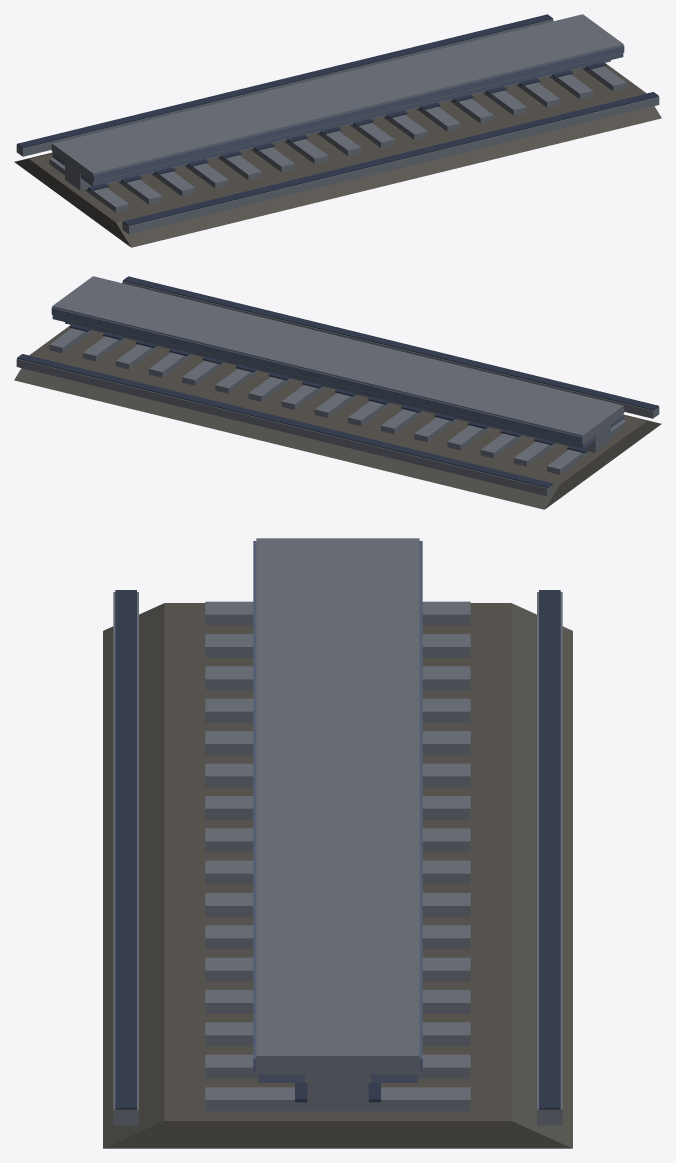
The model's file is rail_track_straight.glb.
3 views of the same model, one above another, from view 1: azimuth 30°, elevation 25°; view 2: azimuth 150°, elevation 25°; view 3: azimuth 270°, elevation 25° (orthographic). The views are drawn at different scales.
Parts seen in each view (by area): view 1: sleeper, ballast, fastening, guide_strip; view 2: sleeper, ballast, fastening, guide_strip; view 3: sleeper, ballast, fastening, guide_strip.
Boxes of the visible parts, bbox=[...] form: sleeper: bbox=[16, 14, 659, 234]; ballast: bbox=[14, 63, 661, 247]; fastening: bbox=[17, 14, 658, 225]; guide_strip: bbox=[51, 45, 624, 186]; sleeper: bbox=[16, 276, 659, 496]; ballast: bbox=[14, 325, 661, 509]; fastening: bbox=[17, 276, 658, 487]; guide_strip: bbox=[51, 307, 624, 448]; sleeper: bbox=[113, 538, 562, 1125]; ballast: bbox=[103, 603, 572, 1148]; fastening: bbox=[115, 590, 560, 1109]; guide_strip: bbox=[253, 541, 422, 1082].
Bounding box in the file's own units: 12 × 1 × 4.6.
